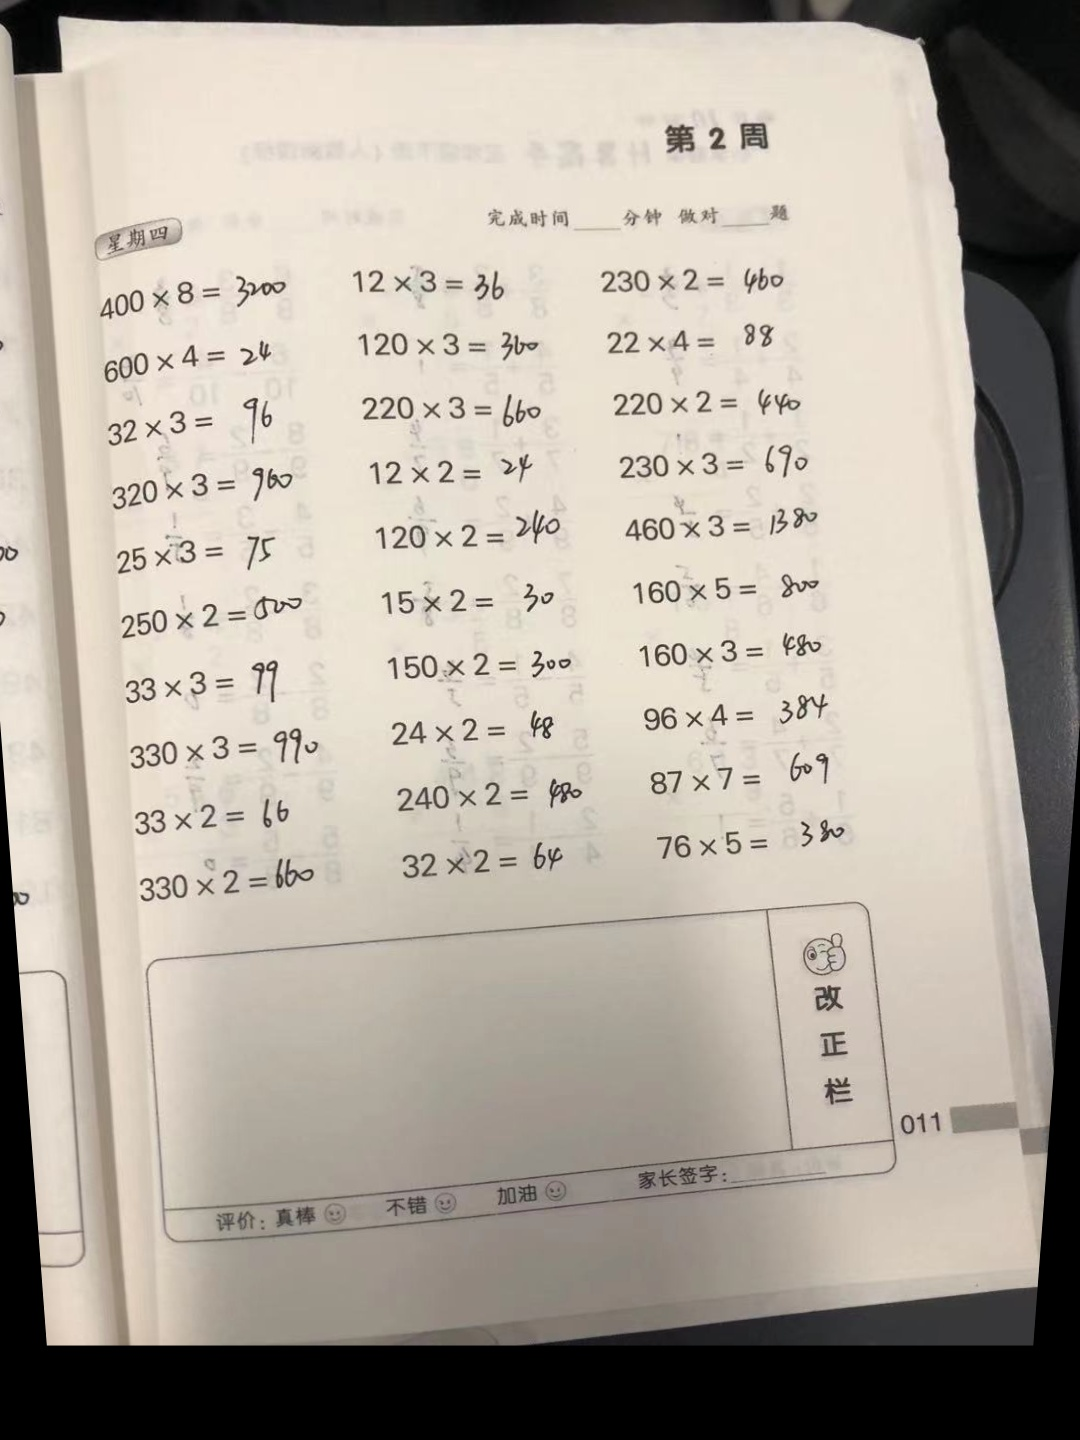equation: (101, 453, 338, 517), (112, 718, 358, 779), (96, 391, 320, 452), (628, 682, 861, 738), (74, 268, 324, 320), (377, 639, 604, 696), (131, 851, 355, 907), (107, 588, 336, 642), (104, 526, 324, 581), (609, 497, 834, 550), (379, 707, 601, 759), (632, 753, 847, 806), (344, 246, 530, 307), (371, 506, 586, 557), (122, 793, 344, 842), (354, 389, 570, 438), (346, 319, 591, 362), (604, 441, 833, 487), (94, 335, 299, 386), (601, 382, 836, 424), (388, 778, 611, 822), (623, 562, 836, 608), (642, 818, 869, 861), (639, 624, 851, 670), (108, 658, 312, 705), (589, 253, 796, 299), (379, 577, 577, 623), (358, 451, 558, 495), (607, 317, 797, 362), (398, 837, 590, 881)
